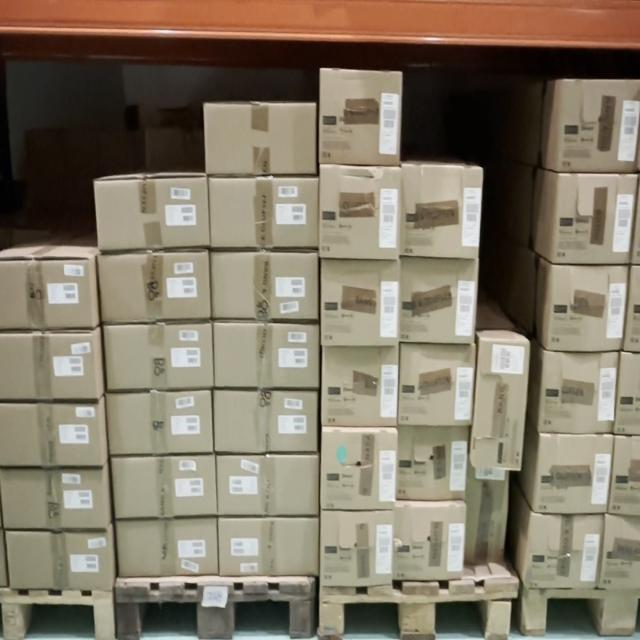box: (557, 79, 640, 172), (553, 175, 639, 264), (102, 252, 208, 322), (473, 338, 529, 470), (322, 71, 399, 165), (211, 178, 317, 246), (206, 108, 315, 172), (548, 265, 627, 353), (98, 182, 208, 244), (212, 252, 317, 316), (403, 166, 477, 256), (106, 326, 212, 388), (110, 391, 210, 455), (538, 352, 617, 433), (323, 172, 400, 255), (215, 326, 318, 388), (532, 436, 613, 511), (323, 261, 397, 342), (215, 393, 316, 451), (526, 511, 603, 587), (0, 405, 99, 464), (218, 458, 318, 516), (0, 334, 92, 397), (4, 471, 103, 529), (0, 262, 88, 327), (9, 535, 113, 590), (323, 348, 398, 424), (402, 261, 474, 340), (322, 430, 394, 508), (114, 460, 216, 514), (119, 520, 216, 576), (219, 521, 318, 574), (321, 513, 392, 586), (401, 348, 471, 422), (396, 428, 466, 498), (394, 507, 462, 577), (464, 467, 509, 565), (600, 513, 640, 591), (608, 434, 640, 515), (615, 353, 640, 436), (624, 264, 640, 351)
